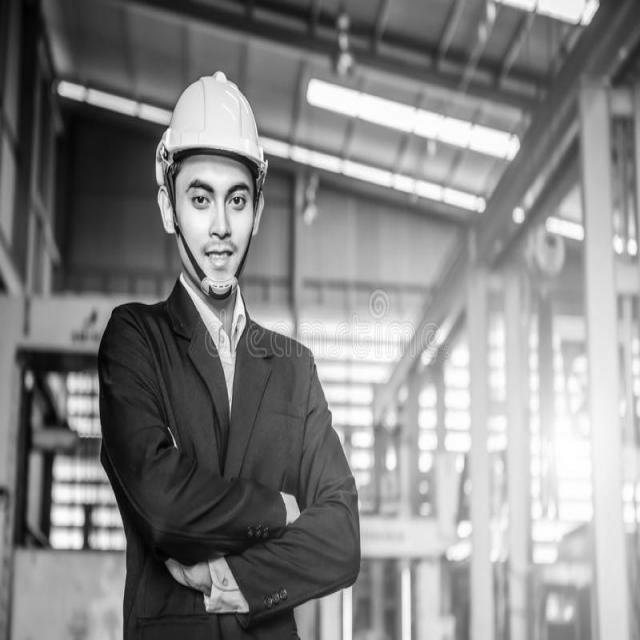construction helmet: (154, 72, 268, 189)
